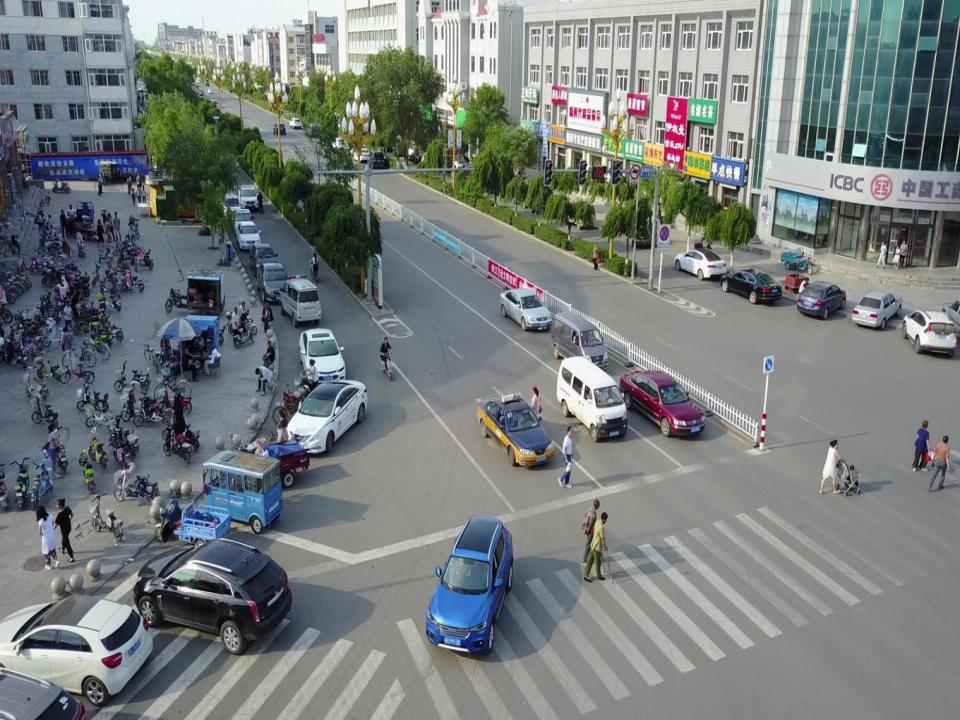car: (130, 538, 290, 655), (0, 594, 152, 706), (426, 512, 517, 655), (618, 366, 706, 441), (285, 378, 367, 458), (475, 389, 556, 467), (298, 326, 346, 386), (901, 308, 957, 356), (719, 268, 781, 305), (499, 287, 551, 331), (793, 280, 847, 319), (851, 289, 902, 330), (672, 246, 729, 280), (255, 262, 294, 301), (248, 243, 280, 277), (235, 220, 267, 252), (630, 219, 664, 246), (218, 192, 243, 222), (231, 207, 255, 237), (240, 182, 258, 210)
van: (557, 354, 627, 444), (549, 312, 610, 372), (279, 274, 322, 327)
